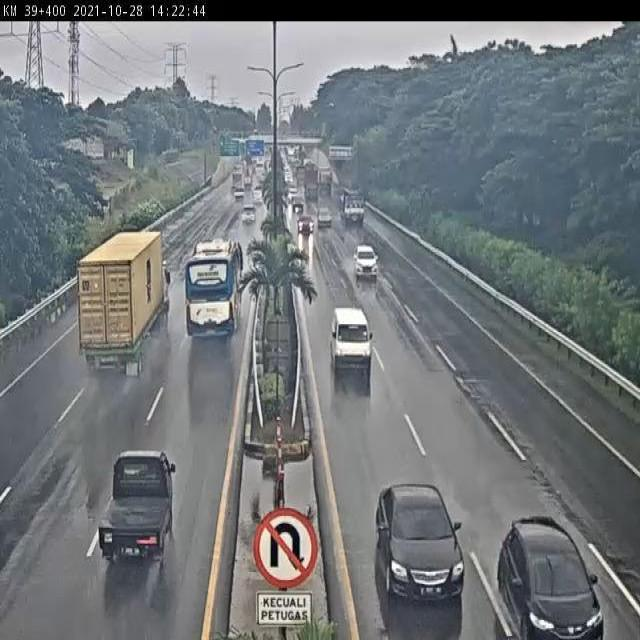bus-l-: (183, 237, 246, 340)
car: (97, 449, 177, 567)
truck-xl-: (76, 231, 173, 381)
